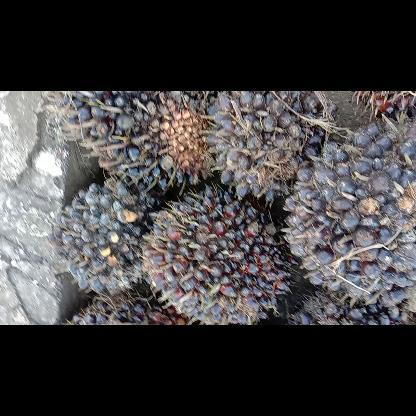TBS mentah: (280, 114, 416, 314), (136, 184, 302, 324), (44, 91, 216, 193), (202, 91, 340, 205), (45, 177, 163, 295)
